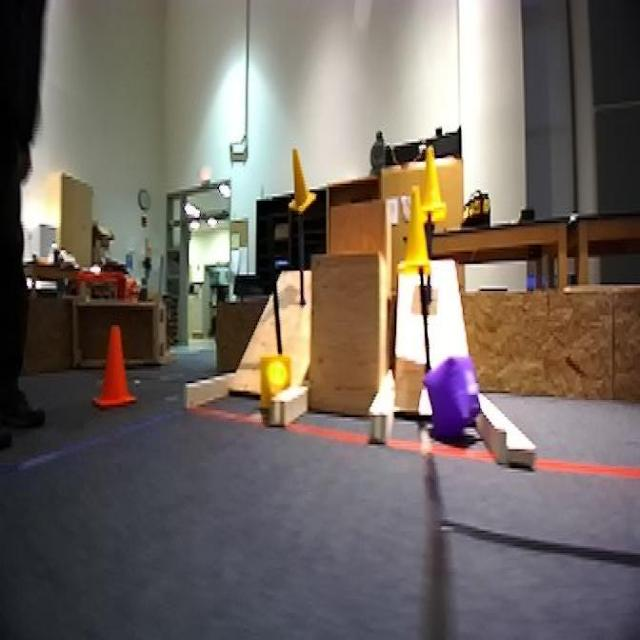frc_cone: (400, 186, 435, 274), (417, 148, 448, 221), (259, 352, 291, 414), (288, 146, 316, 216)
frc_cube: (422, 349, 481, 439)
